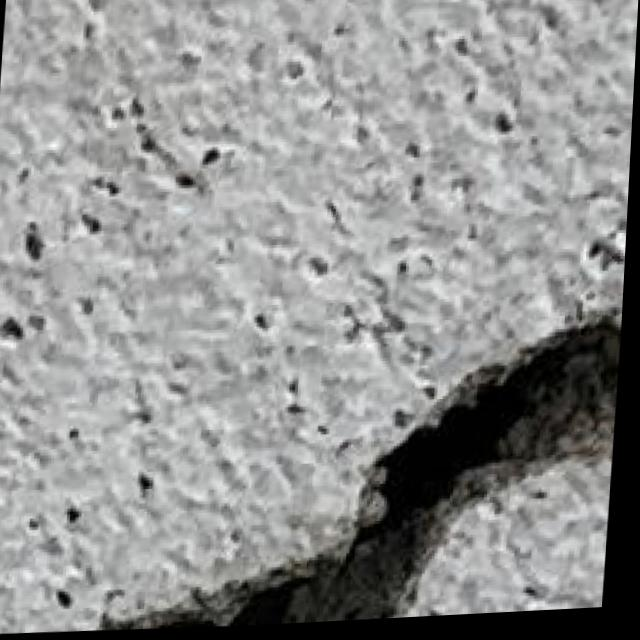Crack: (125, 268, 628, 634)
